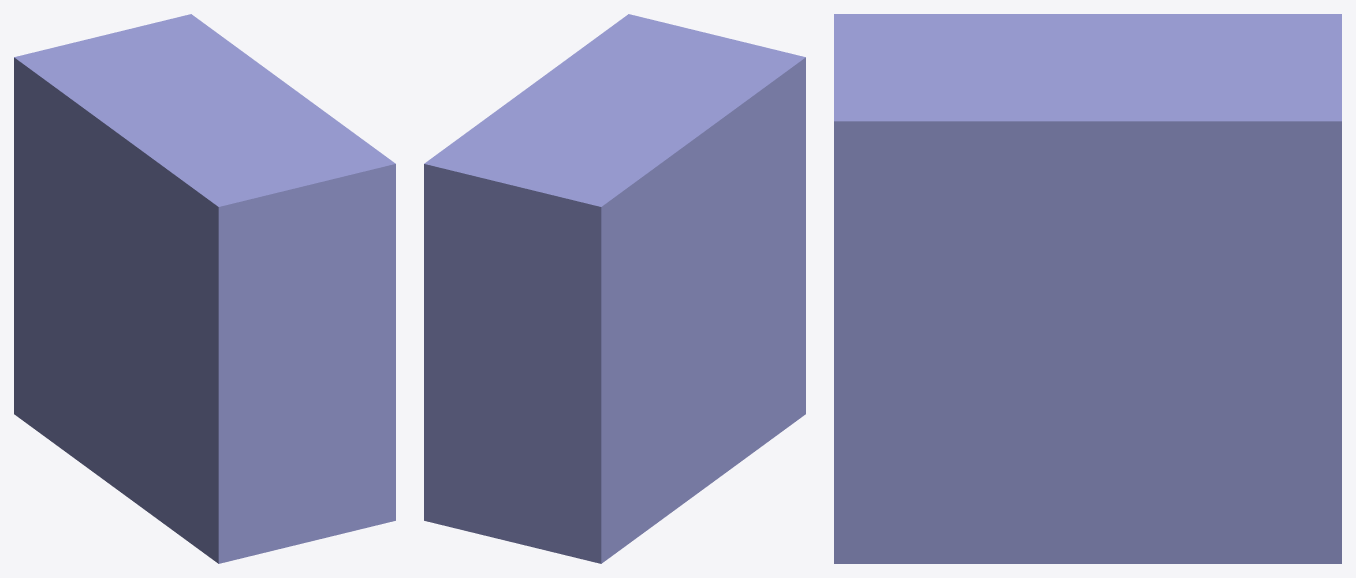
File: building-4.glb
The picture shows the model from 3 angles, left to right: view 1: azimuth 30°, elevation 25°; view 2: azimuth 150°, elevation 25°; view 3: azimuth 270°, elevation 25°; orthographic projection. The views are drawn at different scales.
Visible parts, largest first — view 1: Plane; view 2: Plane; view 3: Plane.
Boxes of the visible parts, box(x1,y1,x2,y2) form: Plane: box(14, 14, 395, 563); Plane: box(424, 14, 805, 563); Plane: box(834, 14, 1341, 563).
Bounding box in the file's own units: 1 × 1.92 × 2.
